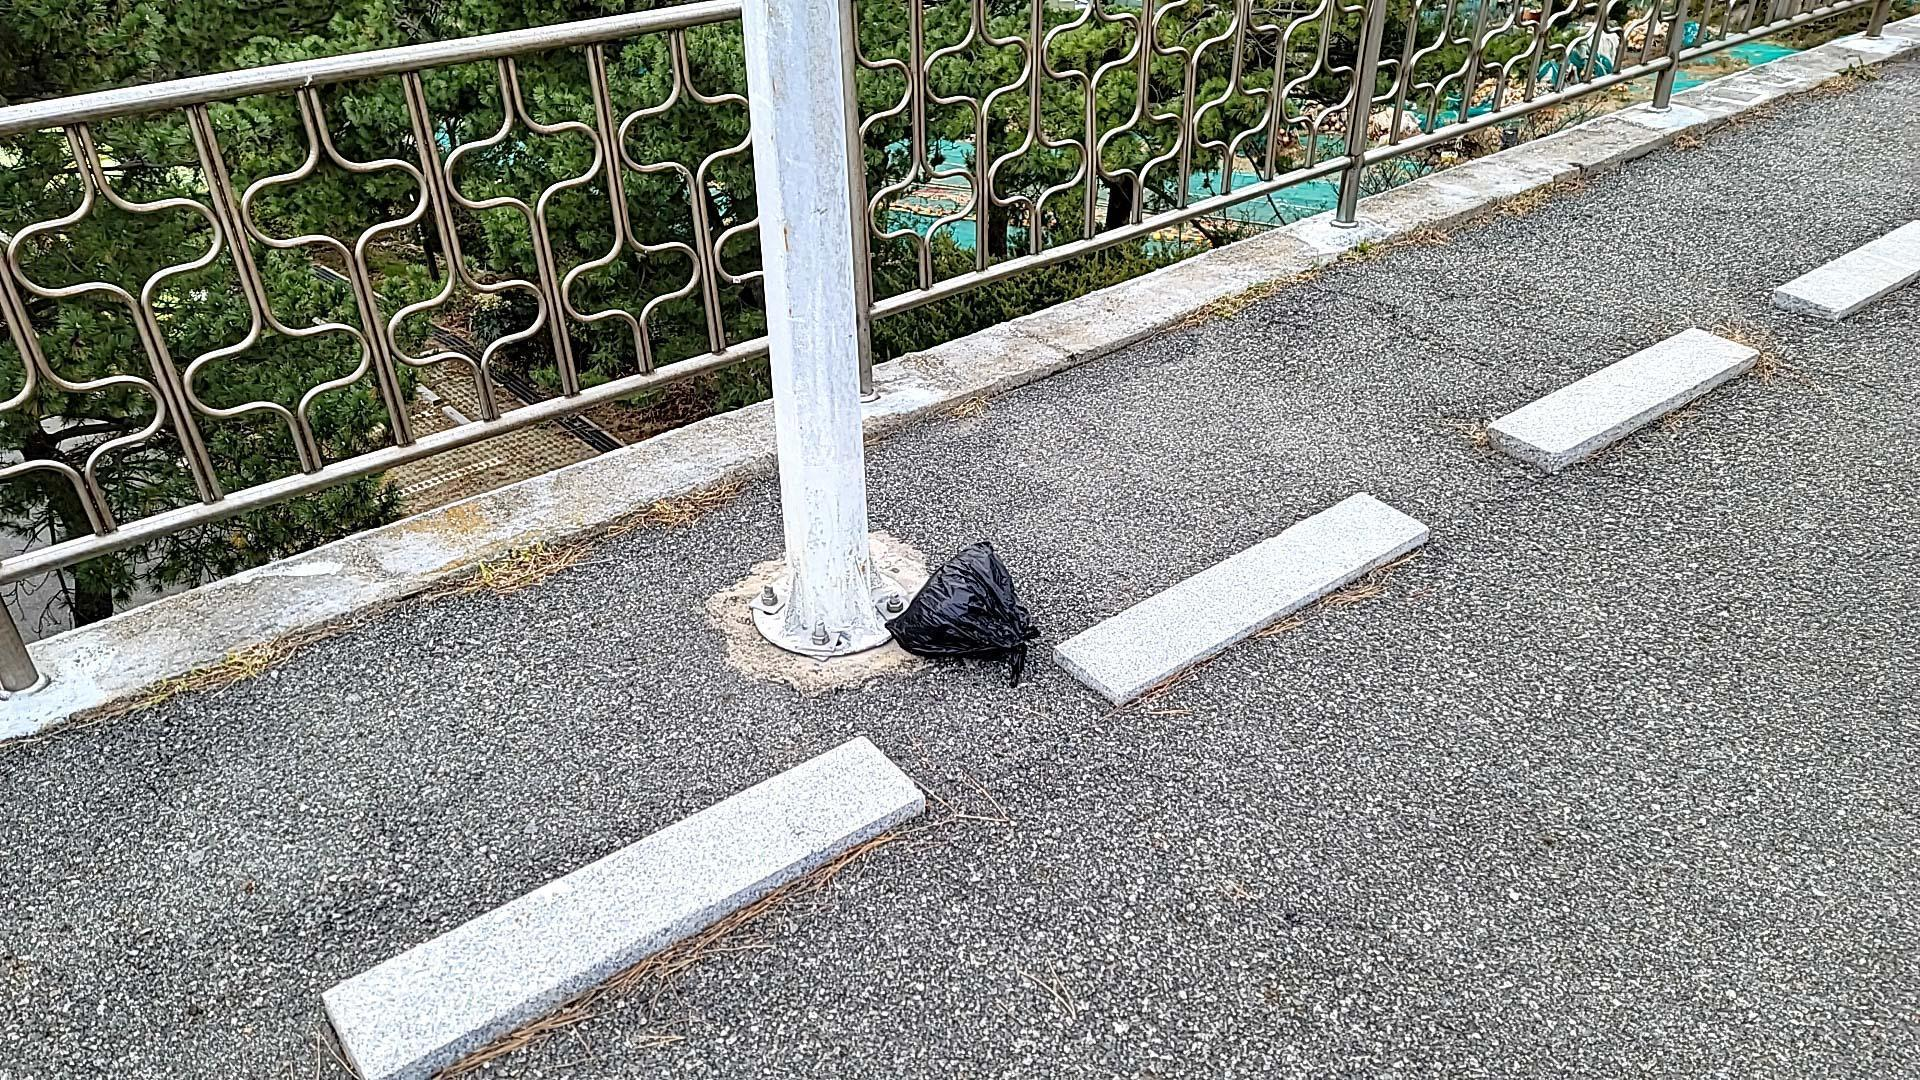black_bag: (878, 535, 1040, 692)
